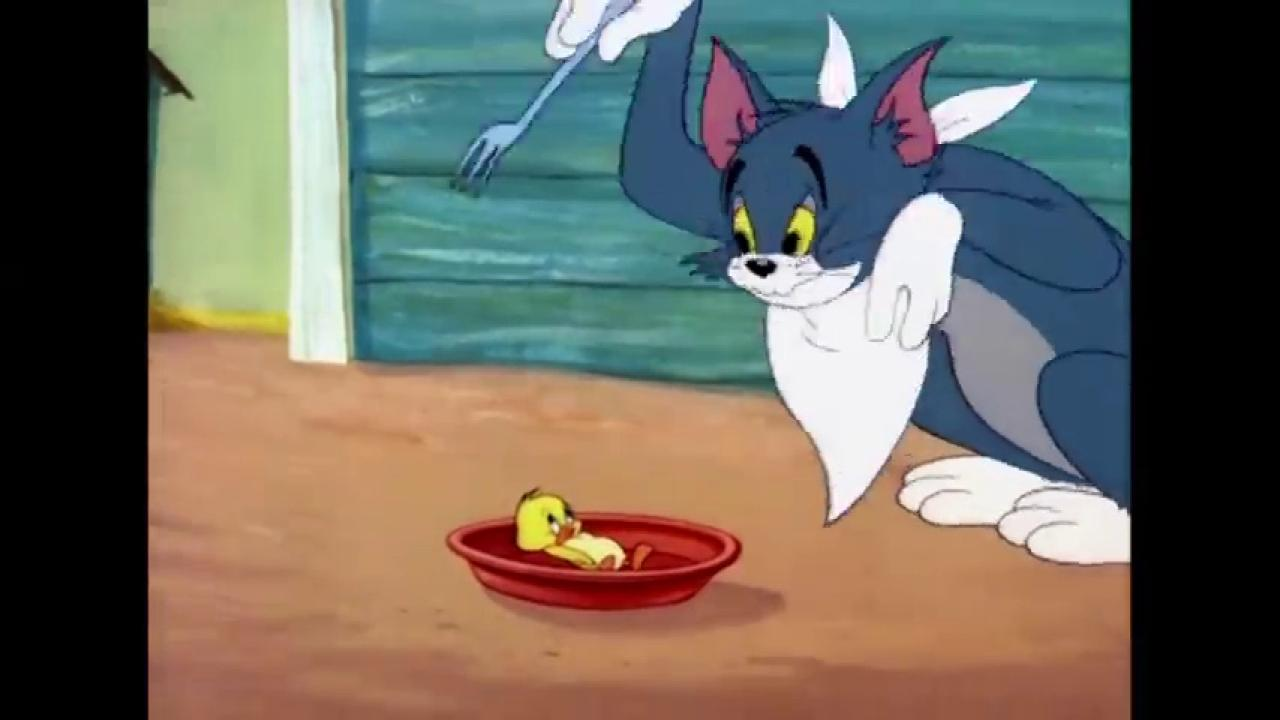Tom: (541, 0, 1131, 569)
